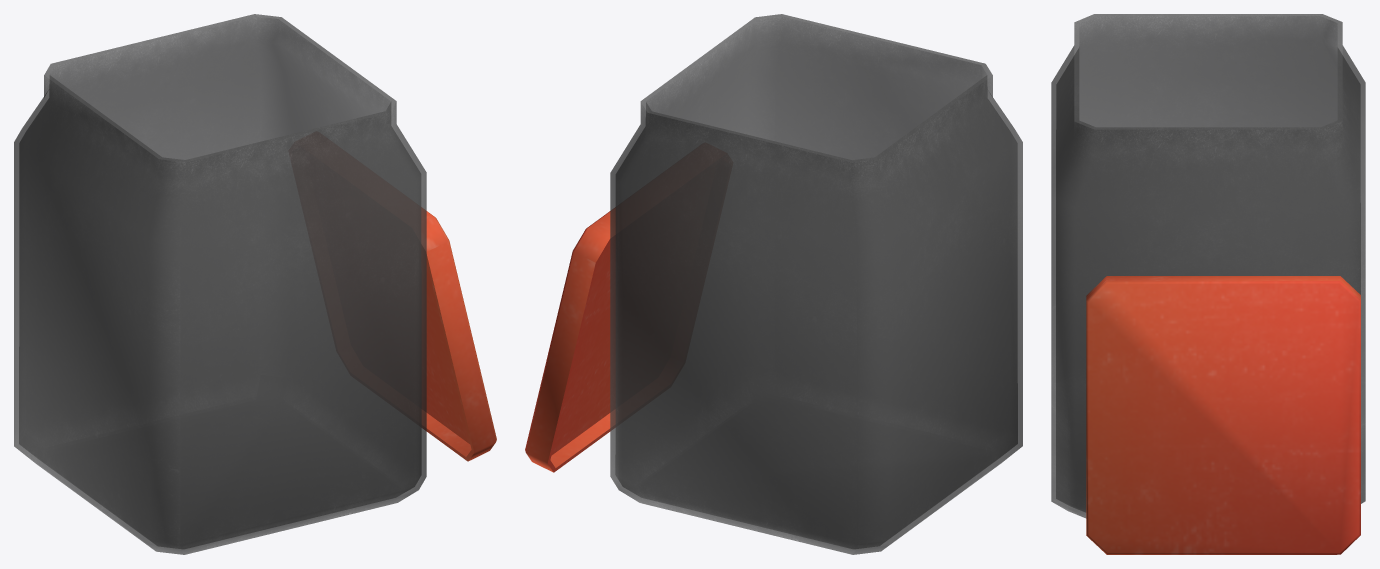
Rendered from dagasibottle03.fbx.
3 views of the same model, side by side, from view 1: azimuth 30°, elevation 25°; view 2: azimuth 150°, elevation 25°; view 3: azimuth 270°, elevation 25° (orthographic).
Parts seen in each view (by area): view 1: dagasibottle03; view 2: dagasibottle03; view 3: dagasibottle03.
Boxes of the visible parts, x1,y1,x2,y2 form: dagasibottle03: (14, 14, 496, 554); dagasibottle03: (525, 14, 1022, 554); dagasibottle03: (1051, 14, 1365, 554).
Size of the model in its own units: 29.14 by 30.16 by 22.17.
